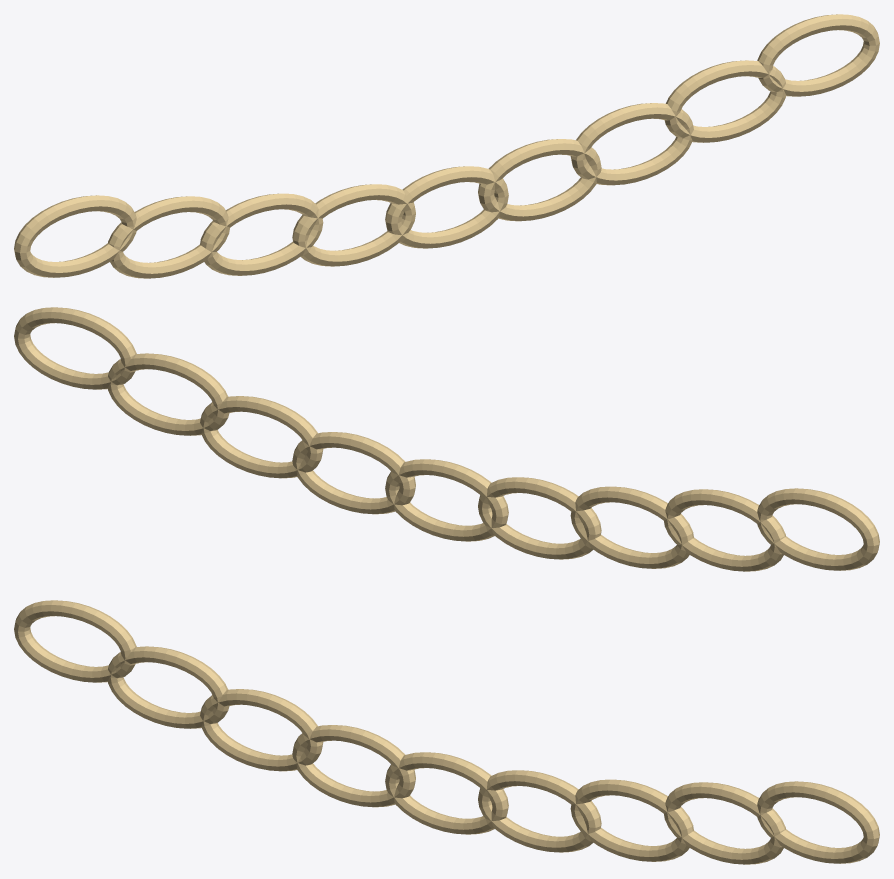
The model's file is ACC_Chain_Short.glb.
3 renders of one model, top to bottom at view 1: azimuth 30°, elevation 25°; view 2: azimuth 150°, elevation 25°; view 3: azimuth 330°, elevation 25°, orthographic.
Visible parts, largest first — view 1: ACC_Chain_Short_9, ACC_Chain_Short_1, ACC_Chain_Short_8, ACC_Chain_Short_7, ACC_Chain_Short_5, ACC_Chain_Short_6, ACC_Chain_Short_4, ACC_Chain_Short_3, ACC_Chain_Short_2; view 2: ACC_Chain_Short_9, ACC_Chain_Short_1, ACC_Chain_Short_8, ACC_Chain_Short_7, ACC_Chain_Short_5, ACC_Chain_Short_6, ACC_Chain_Short_4, ACC_Chain_Short_3, ACC_Chain_Short_2; view 3: ACC_Chain_Short_1, ACC_Chain_Short_9, ACC_Chain_Short_2, ACC_Chain_Short_3, ACC_Chain_Short_5, ACC_Chain_Short_4, ACC_Chain_Short_6, ACC_Chain_Short_7, ACC_Chain_Short_8.
Part boxes in pixels (x1,y1,x2,y2): ACC_Chain_Short_9: [757, 14, 879, 96]; ACC_Chain_Short_1: [14, 195, 136, 277]; ACC_Chain_Short_8: [664, 60, 786, 142]; ACC_Chain_Short_7: [570, 103, 693, 185]; ACC_Chain_Short_5: [385, 166, 508, 248]; ACC_Chain_Short_6: [478, 139, 601, 221]; ACC_Chain_Short_4: [292, 184, 415, 266]; ACC_Chain_Short_3: [200, 193, 323, 275]; ACC_Chain_Short_2: [108, 196, 229, 278]; ACC_Chain_Short_9: [14, 307, 136, 389]; ACC_Chain_Short_1: [757, 488, 879, 570]; ACC_Chain_Short_8: [107, 353, 229, 435]; ACC_Chain_Short_7: [200, 396, 323, 478]; ACC_Chain_Short_5: [385, 459, 508, 541]; ACC_Chain_Short_6: [292, 432, 415, 514]; ACC_Chain_Short_4: [478, 477, 601, 559]; ACC_Chain_Short_3: [570, 486, 693, 568]; ACC_Chain_Short_2: [664, 489, 785, 571]; ACC_Chain_Short_1: [14, 600, 136, 682]; ACC_Chain_Short_9: [757, 781, 879, 863]; ACC_Chain_Short_2: [107, 646, 229, 728]; ACC_Chain_Short_3: [200, 689, 323, 771]; ACC_Chain_Short_5: [385, 752, 508, 834]; ACC_Chain_Short_4: [292, 725, 415, 807]; ACC_Chain_Short_6: [478, 770, 601, 852]; ACC_Chain_Short_7: [570, 779, 693, 861]; ACC_Chain_Short_8: [664, 782, 785, 864].
Bounding box in the file's own units: 0.177 × 0.027 × 0.003.
